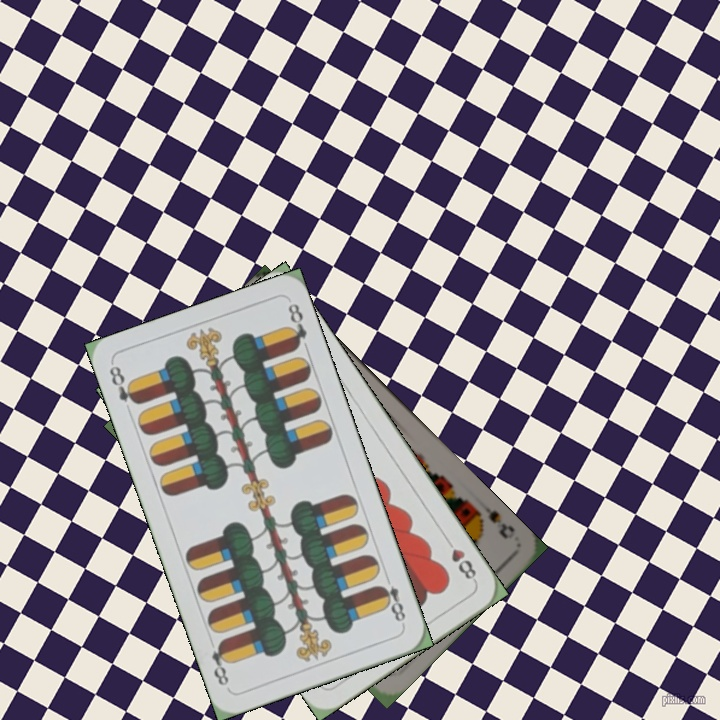E8: (375, 571, 408, 628), (105, 361, 141, 407)
H8: (440, 533, 479, 584)
S9: (469, 502, 518, 542)
